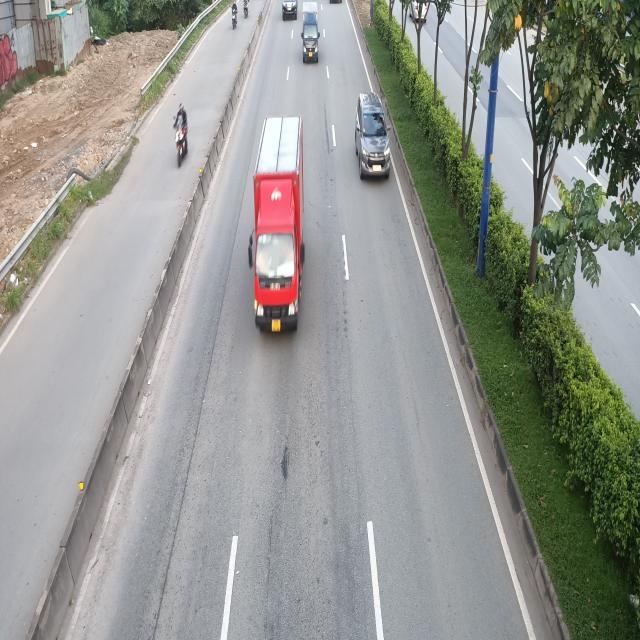car: (354, 94, 390, 184)
truck: (248, 113, 308, 336), (300, 0, 320, 63)
